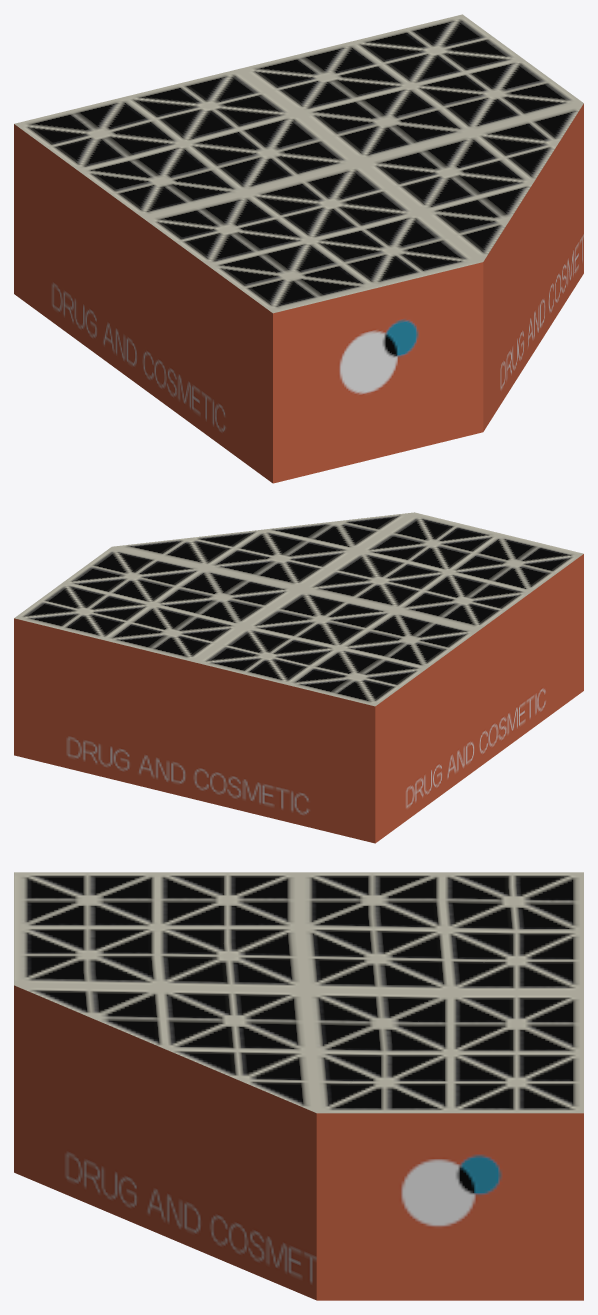
Rendered from Prop_Signbox_N.fbx.
3 views of the same model, one above another, from view 1: azimuth 30°, elevation 25°; view 2: azimuth 150°, elevation 25°; view 3: azimuth 270°, elevation 25° (orthographic). The views are drawn at different scales.
Parts seen in each view (by area): view 1: Prop_Signbox_N; view 2: Prop_Signbox_N; view 3: Prop_Signbox_N.
Boxes of the visible parts, <box> form: Prop_Signbox_N: <box>14,14,583,483</box>; Prop_Signbox_N: <box>14,512,583,843</box>; Prop_Signbox_N: <box>14,872,583,1300</box>.
Size of the model in its own units: 1600 by 580 by 1600.
